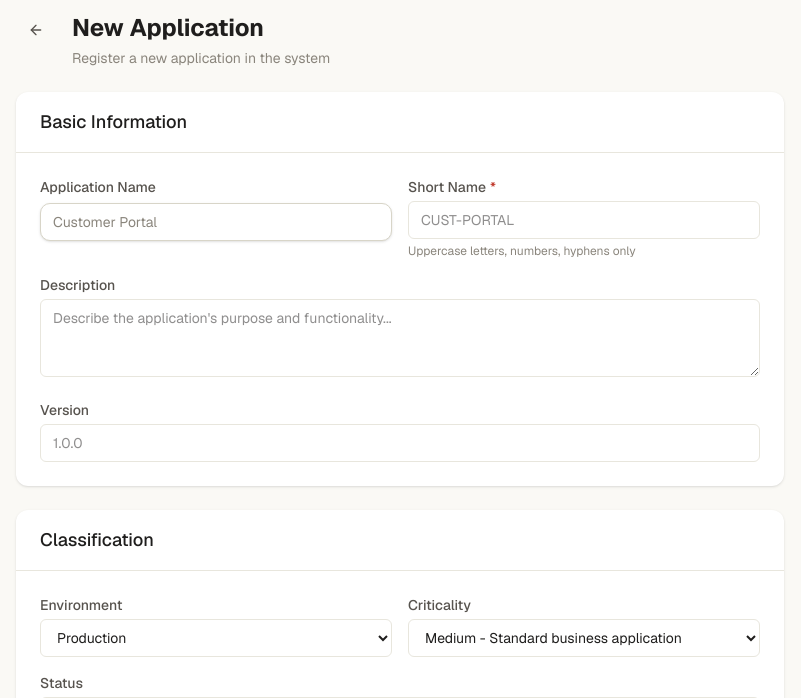
Test case: NewApplicationPage › form validation › should remove invalid characters from short name
In the field with placeholder "CUST-PORTAL": [584, 220] box [408,201,760,239], type "test app!@#$"
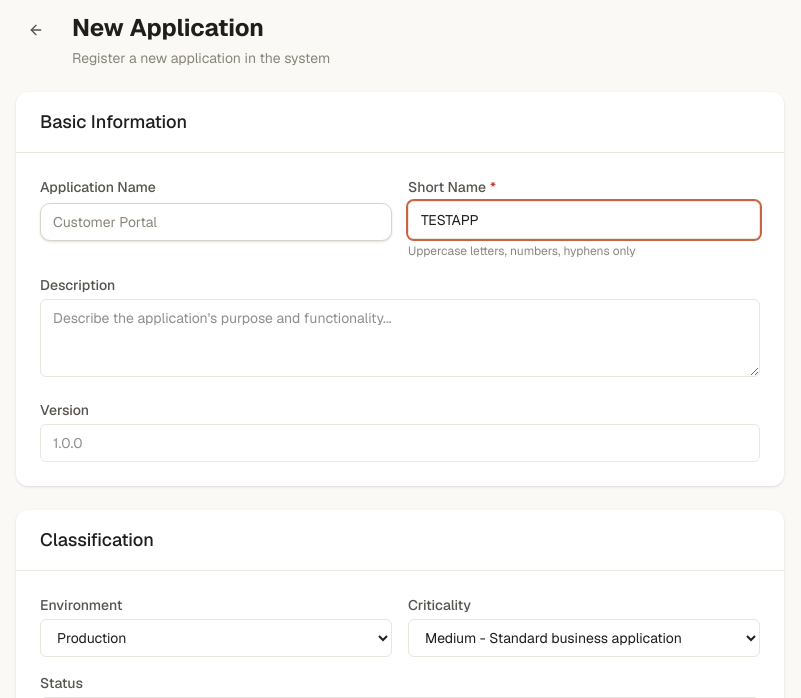
Result: the field with placeholder "CUST-PORTAL" holds "TESTAPP" at [408,201,760,239]
